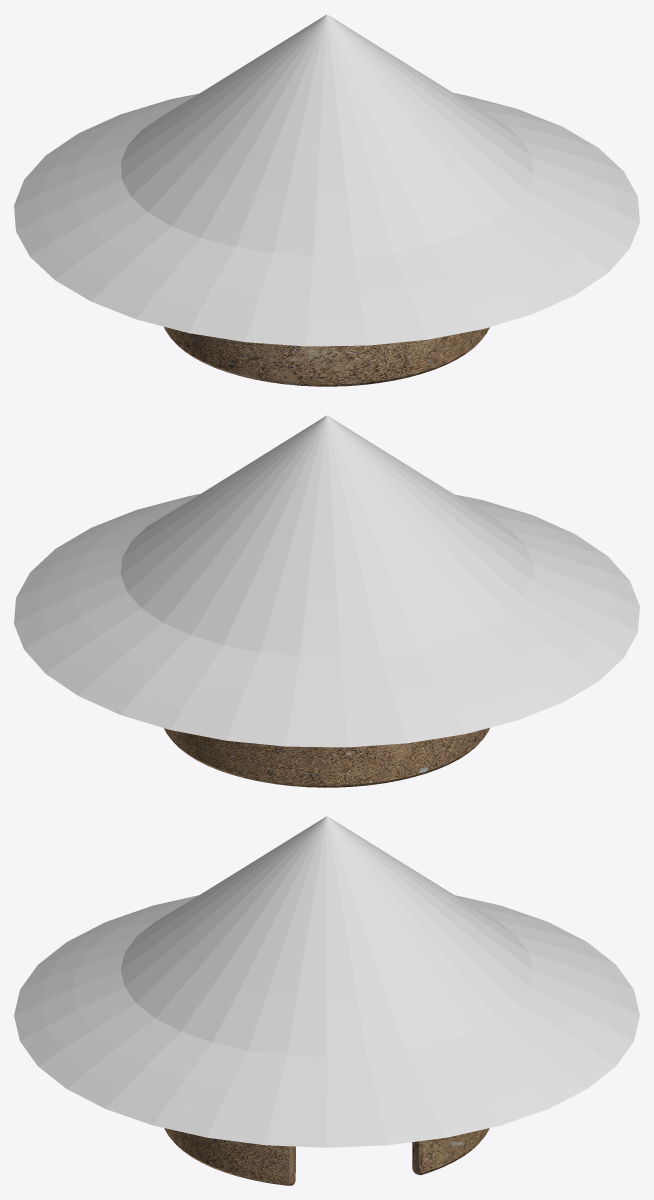
The model's file is LS_GS3_ME3Hut.fbx.
3 views of the same model, one above another, from view 1: azimuth 30°, elevation 25°; view 2: azimuth 150°, elevation 25°; view 3: azimuth 270°, elevation 25° (orthographic).
Visible parts, largest first — view 1: Cone, Cylinder; view 2: Cone, Cylinder; view 3: Cone, Cylinder.
Part boxes in pixels (x1,y1,x2,y2): Cone: (14,14,639,346); Cylinder: (164,327,489,386); Cone: (14,415,639,747); Cylinder: (163,728,489,787); Cone: (14,816,639,1147); Cylinder: (164,1128,489,1185).
Size of the model in its own units: 738 by 395 by 738.
Materials: 2 (1 with a texture image).
